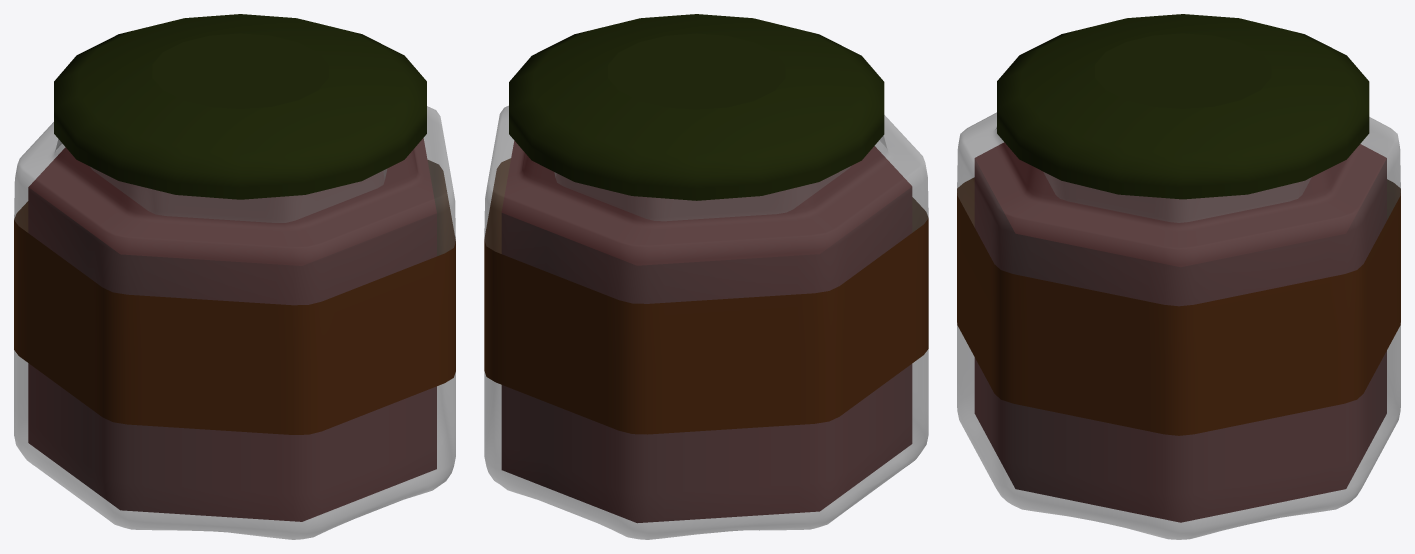
Rendered from JarOfJam_240.obj.
The picture shows the model from 3 angles, left to right: view 1: azimuth 30°, elevation 25°; view 2: azimuth 150°, elevation 25°; view 3: azimuth 270°, elevation 25°; orthographic projection.
Parts seen in each view (by area): view 1: Cylinder001, Cylinder003, Cylinder002; view 2: Cylinder001, Cylinder003, Cylinder002; view 3: Cylinder001, Cylinder003, Cylinder002.
Part boxes in pixels (box(x1,y1,x2,y2)): Cylinder001: box(14, 106, 455, 539); Cylinder003: box(28, 138, 436, 521); Cylinder002: box(54, 14, 426, 199); Cylinder001: box(484, 106, 928, 539); Cylinder003: box(501, 141, 912, 522); Cylinder002: box(509, 14, 884, 200); Cylinder001: box(957, 112, 1400, 539); Cylinder003: box(974, 142, 1386, 522); Cylinder002: box(997, 14, 1369, 199).
Size of the model in its own units: 38.82 by 37.57 by 39.52.
